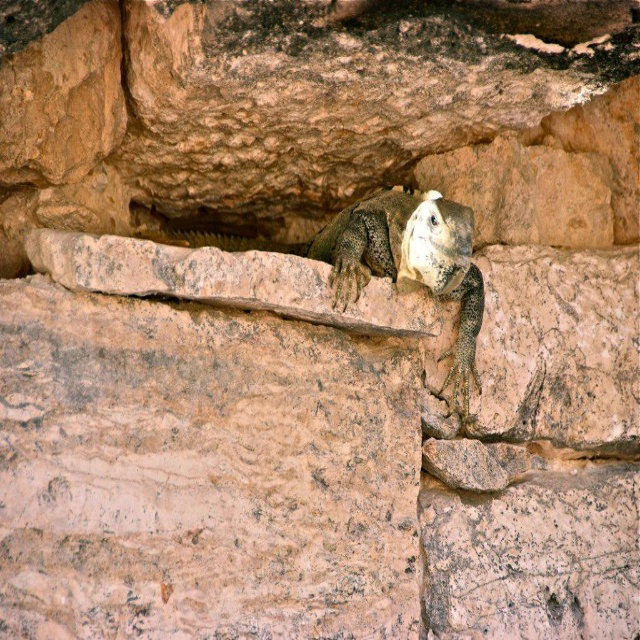Lizard: (131, 183, 486, 422)
